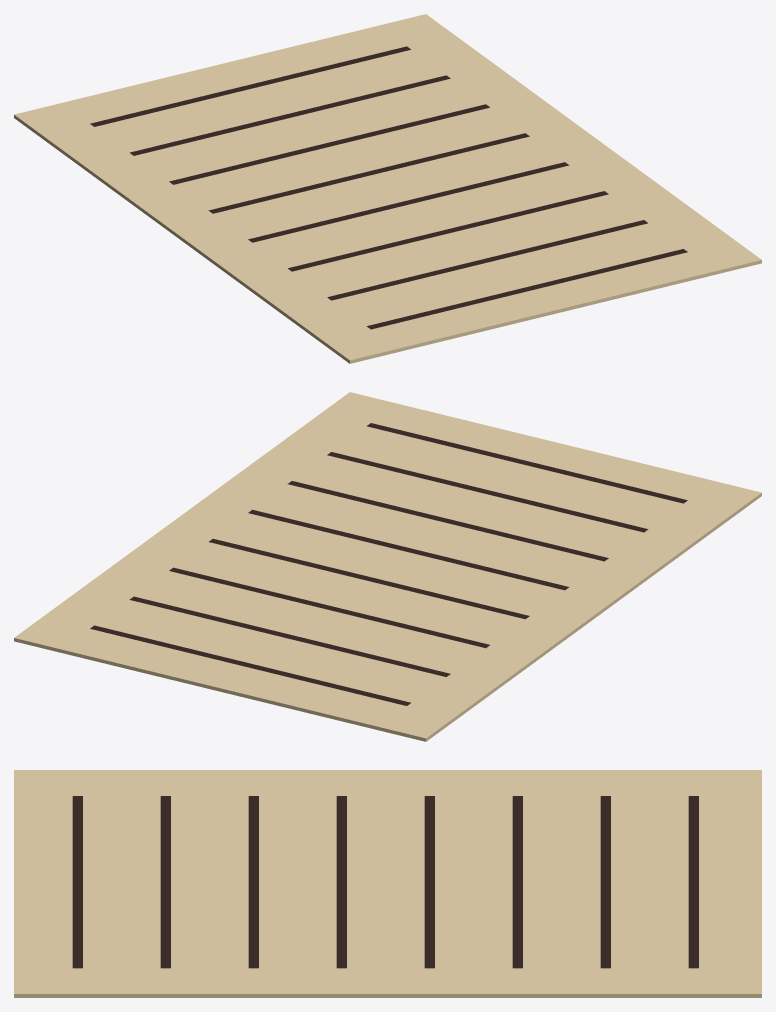
Rendered from Paper_000.glb.
The picture shows the model from 3 angles, top to bottom: view 1: azimuth 30°, elevation 25°; view 2: azimuth 150°, elevation 25°; view 3: azimuth 270°, elevation 25°; orthographic projection. The views are drawn at different scales.
Visible parts, largest first — view 1: Paper; view 2: Paper; view 3: Paper.
Boxes of the visible parts, x1,y1,x2,y2 form: Paper: (14,14,761,363); Paper: (14,392,761,741); Paper: (14,770,761,997).
Bounding box in the file's own units: 0.2031 × 0.00164 × 0.2868.
